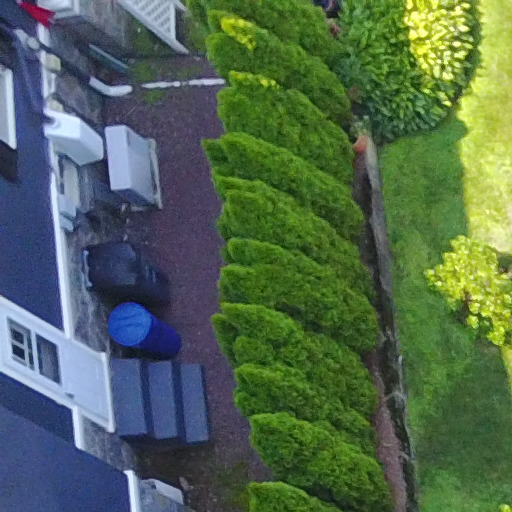gutter: (104, 75, 232, 95)
pot: (335, 113, 379, 158)
trash bin: (74, 231, 182, 313), (102, 297, 204, 371)
